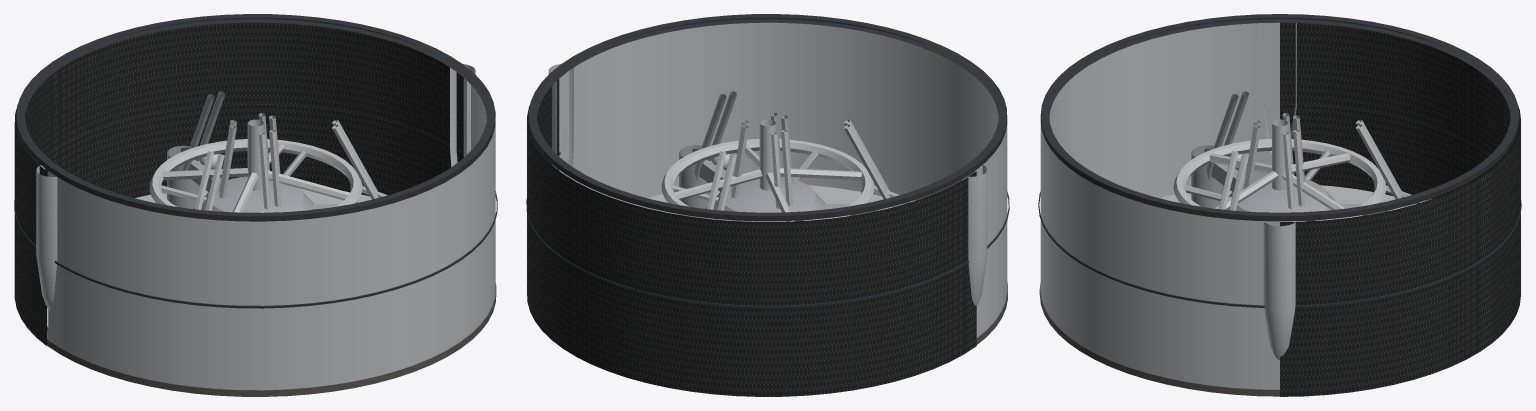
The model's file is thrust_starship_l.glb.
3 renders of one model, left to right at view 1: azimuth 30°, elevation 25°; view 2: azimuth 150°, elevation 25°; view 3: azimuth 270°, elevation 25°, orthographic.
Visible parts, largest first — view 1: skin, slot_feed__prevalves, slot_feed, structure, slot_baseShield__rigid; view 2: skin, slot_feed__prevalves, slot_feed, structure, slot_baseShield__rigid; view 3: skin, slot_feed__prevalves, slot_feed, structure, slot_baseShield__rigid.
Part boxes in pixels (bbox=[...]): skin: bbox=[14, 14, 497, 396]; slot_feed__prevalves: bbox=[149, 119, 387, 212]; slot_feed: bbox=[182, 91, 378, 210]; structure: bbox=[167, 145, 338, 212]; slot_baseShield__rigid: bbox=[47, 188, 371, 333]; skin: bbox=[526, 14, 1009, 396]; slot_feed__prevalves: bbox=[661, 119, 914, 221]; slot_feed: bbox=[694, 91, 895, 219]; structure: bbox=[679, 145, 919, 221]; slot_baseShield__rigid: bbox=[629, 185, 883, 214]; skin: bbox=[1038, 14, 1521, 396]; slot_feed__prevalves: bbox=[1173, 119, 1426, 221]; slot_feed: bbox=[1206, 91, 1407, 210]; structure: bbox=[1191, 145, 1432, 221]; slot_baseShield__rigid: bbox=[1159, 185, 1395, 203].
Size of the model in its own units: 3.54 by 1.4 by 3.41.
Materials: 10 (1 with a texture image).
